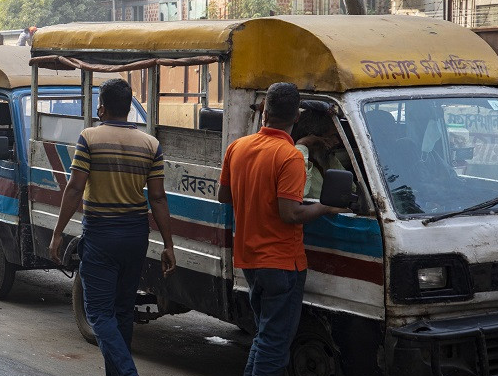Leguna: (25, 16, 498, 339), (2, 36, 146, 269)
